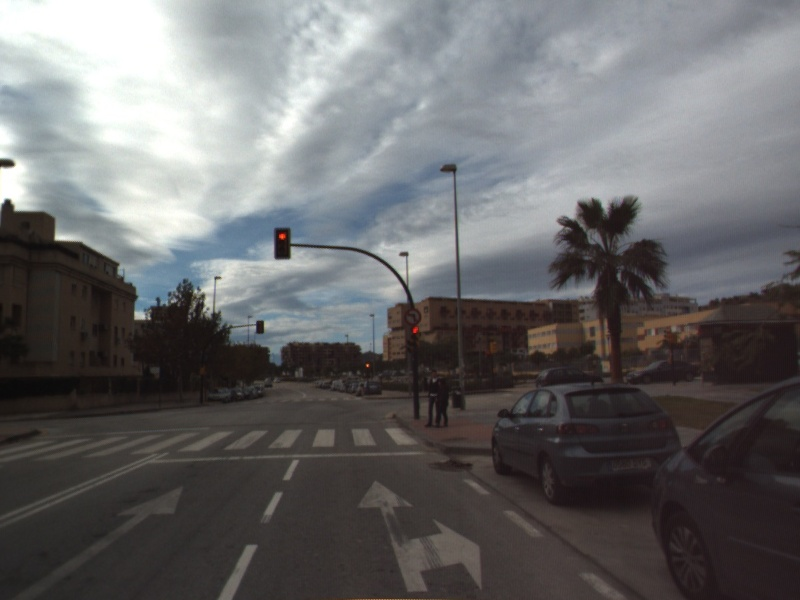STRAIGHT: (10, 484, 185, 600)
STRAIGHT_RIGHT: (355, 478, 484, 594)
